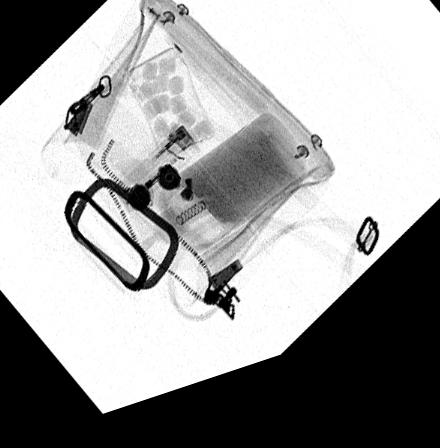Lighter: (112, 136, 201, 223)
